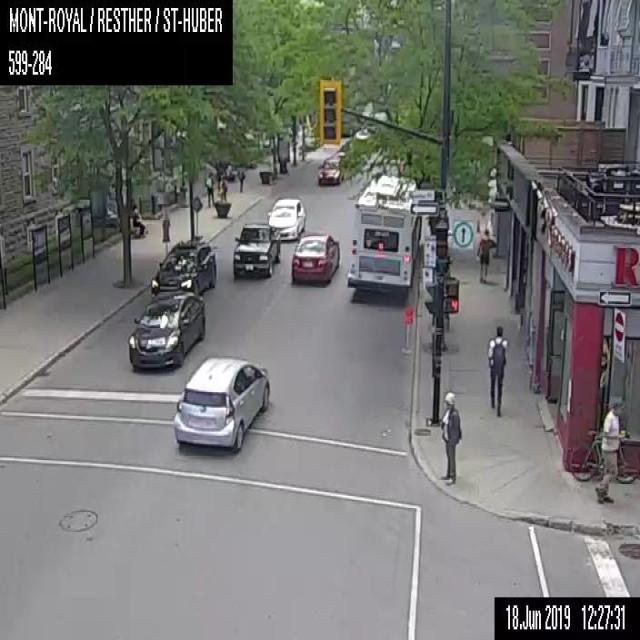bus: (346, 175, 421, 293)
pedestrian: (594, 398, 624, 502), (440, 389, 461, 484), (487, 325, 508, 416), (476, 227, 496, 281), (132, 208, 145, 236), (205, 171, 214, 206), (218, 178, 227, 201), (238, 167, 245, 192)
vehicle: (172, 353, 270, 452), (128, 291, 204, 369), (150, 239, 216, 298), (232, 223, 280, 278), (291, 233, 340, 283), (267, 197, 305, 239), (318, 156, 342, 183)
